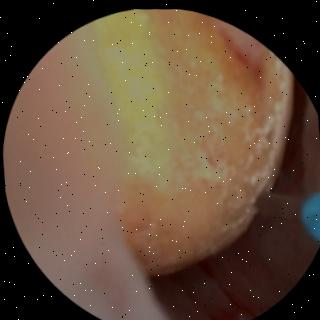fiber: (300, 190, 320, 236)
stone: (84, 14, 291, 275)
